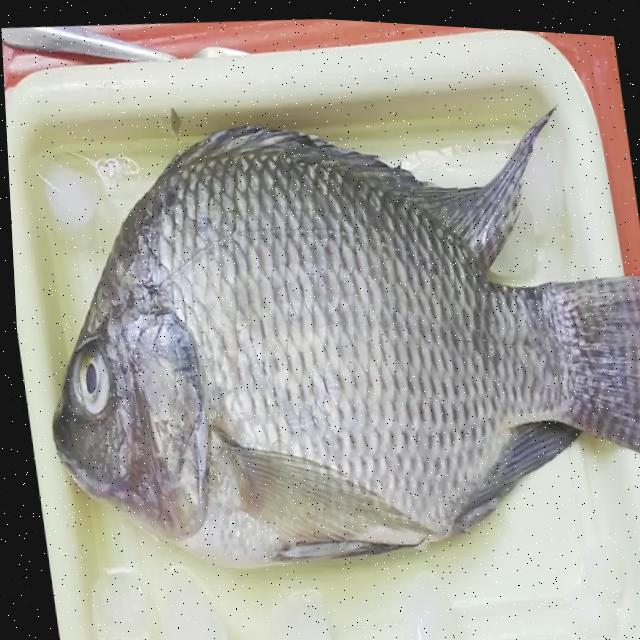Fresh: (99, 135, 462, 567), (55, 331, 118, 438)
